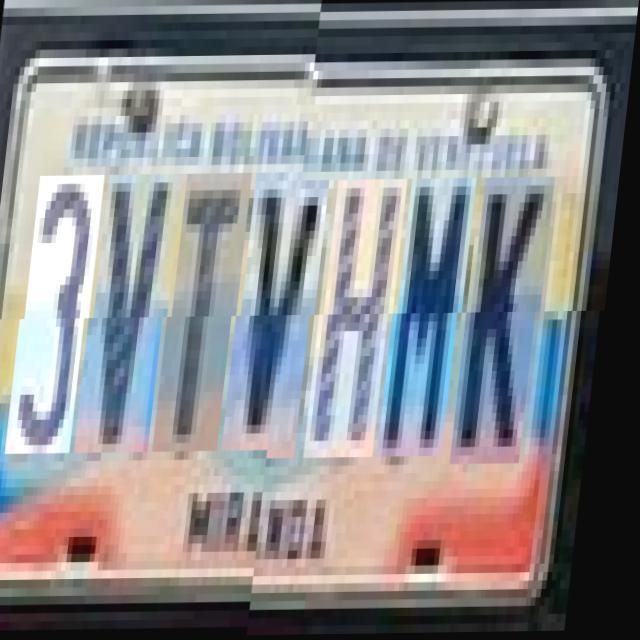3: (19, 183, 108, 462)
H: (318, 180, 412, 459)
K: (466, 178, 560, 466)
M: (392, 179, 481, 458)
T: (167, 182, 256, 460)
V: (235, 181, 334, 460), (88, 183, 186, 462)
